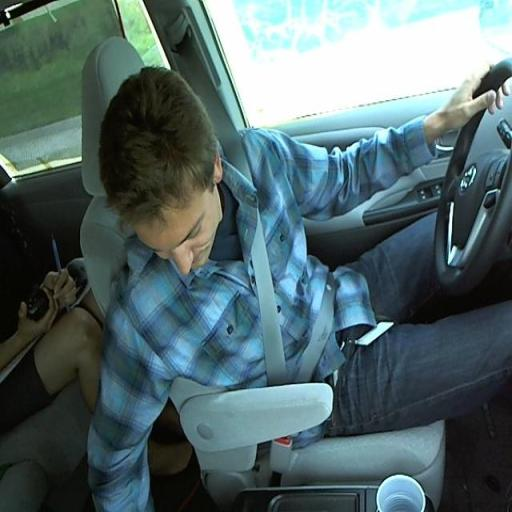turning: (98, 65, 512, 429)
